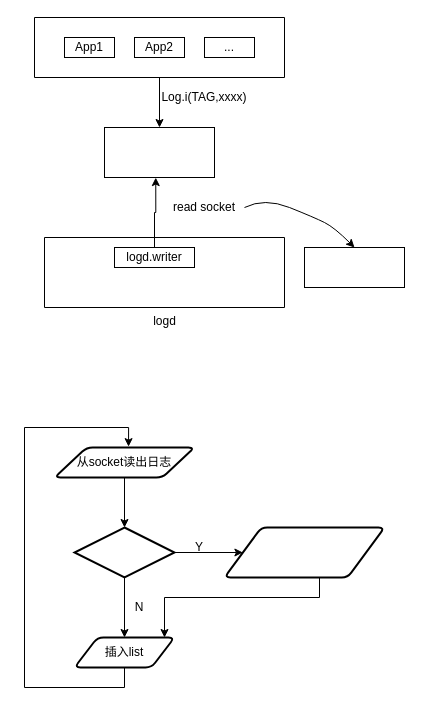
The diagram is 422 pixels wide and 713 high, and some of its shapes have lost their labels. The box of each missing label's shape, as (x1, y1, x2, y2) in pixels:
/dev/socket/logdw: (104, 126, 214, 178)
buffer full: (73, 526, 175, 578)
LogdBuffer: (304, 246, 404, 288)
遍历list、 减少buffer大小 （高耗时）: (223, 526, 385, 578)
